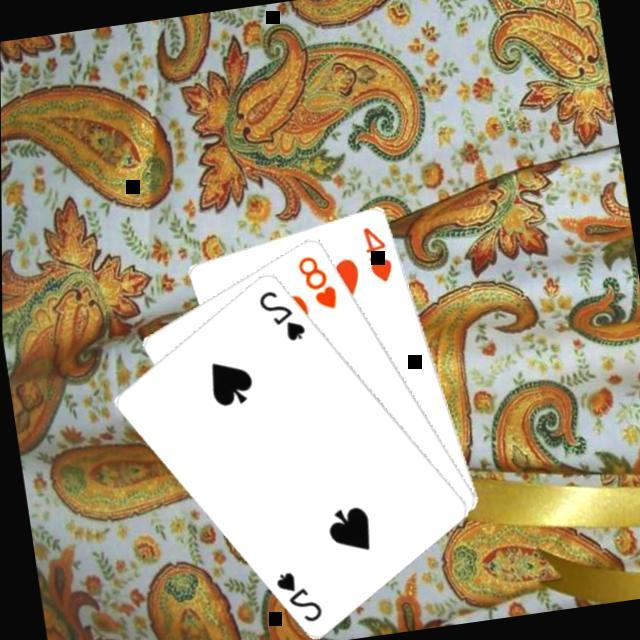2S: (255, 284, 311, 350), (272, 565, 328, 630)
4H: (360, 222, 398, 288)
8H: (294, 250, 342, 317)
